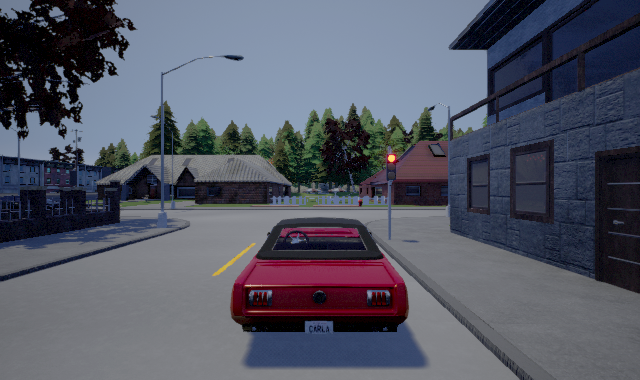traffic_light: (386, 149, 396, 186)
vehicle: (230, 217, 409, 334)
